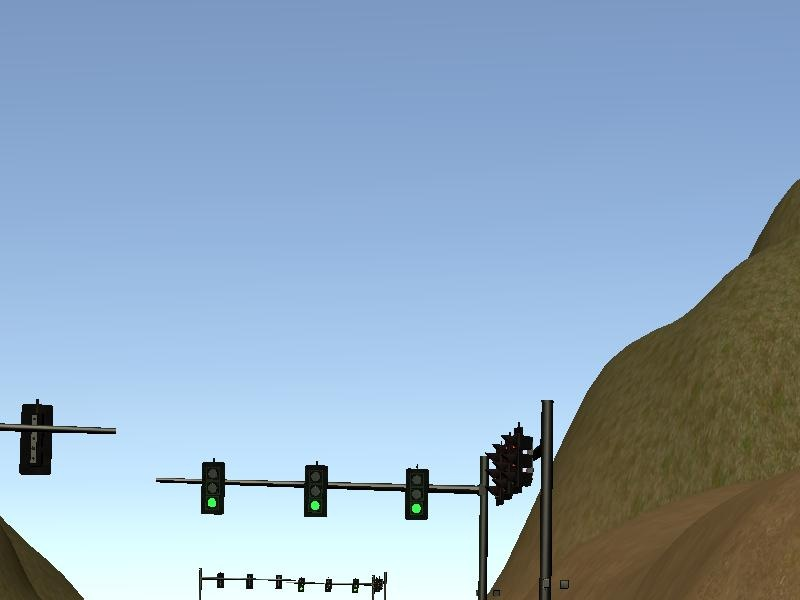green: (304, 464, 328, 517), (406, 469, 430, 520), (202, 463, 225, 515), (352, 578, 360, 594), (298, 578, 306, 593)
